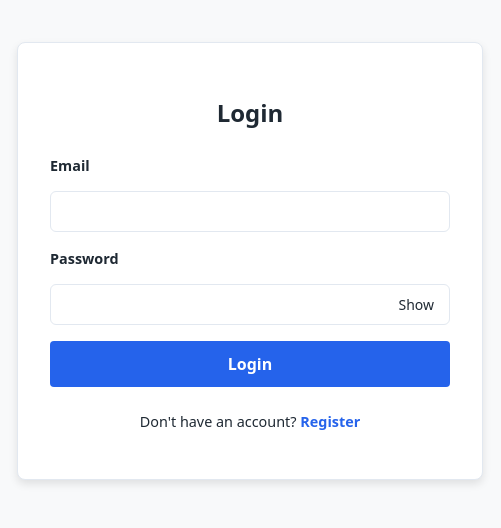
Scenario: LoginPage Component › Successful Login Tests (Başarılı Giriş Testleri) › Başarılı girişte başarı mesajı gösterilmeli
This screenshot has width=501, height=528.
Type "test@test.com" into the field labelled "Email" at coordinates (250, 212), box [50,191,450,232]
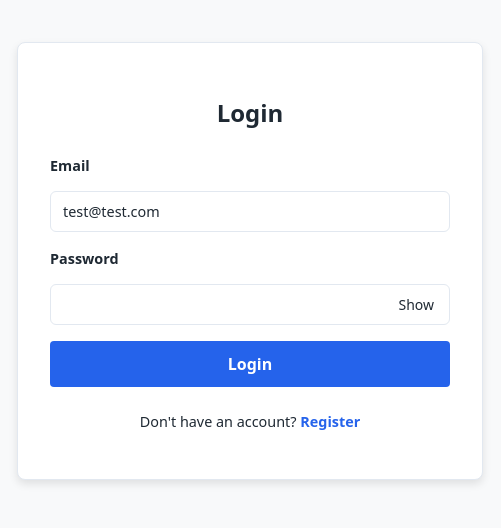
Type "Password123!" into the password field labelled "Password" at coordinates (250, 304), box [50,284,450,325]
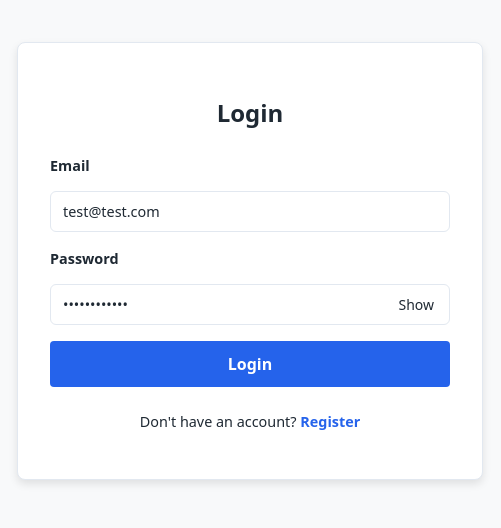
Click the button "Login" at coordinates (250, 364), box [50,341,450,387]
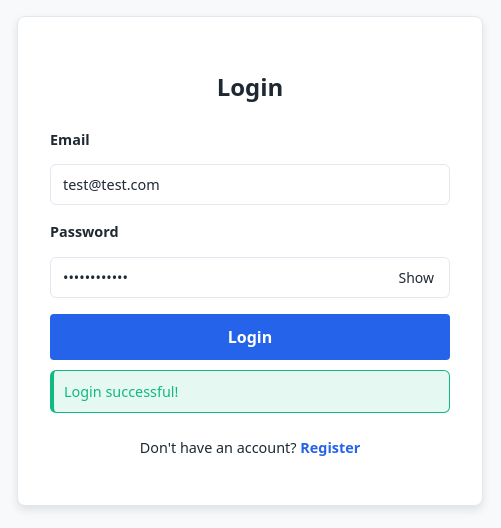
Expected: the text "Login successful!" is shown, [50,370,450,413]
